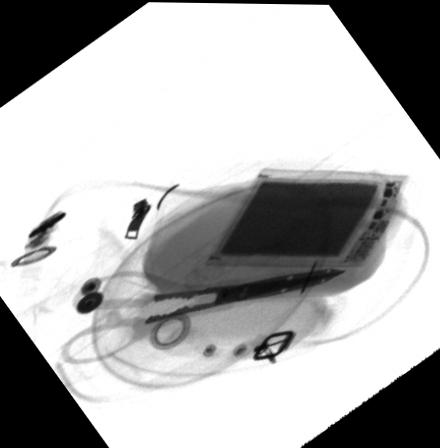Powerbank: (204, 166, 414, 267)
Scissors: (60, 263, 350, 366)
